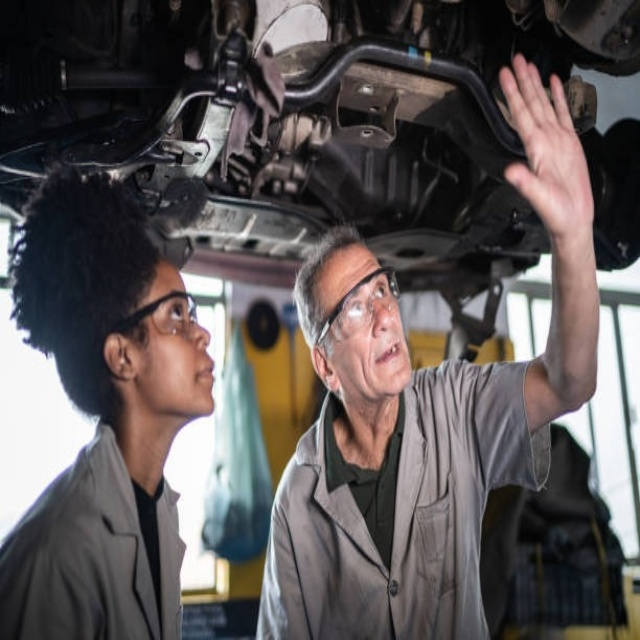Gafas: (316, 266, 401, 354), (113, 290, 199, 337)
Sin_guantes: (495, 53, 598, 235)
Sin_mascara: (183, 344, 223, 411), (368, 336, 411, 383)
